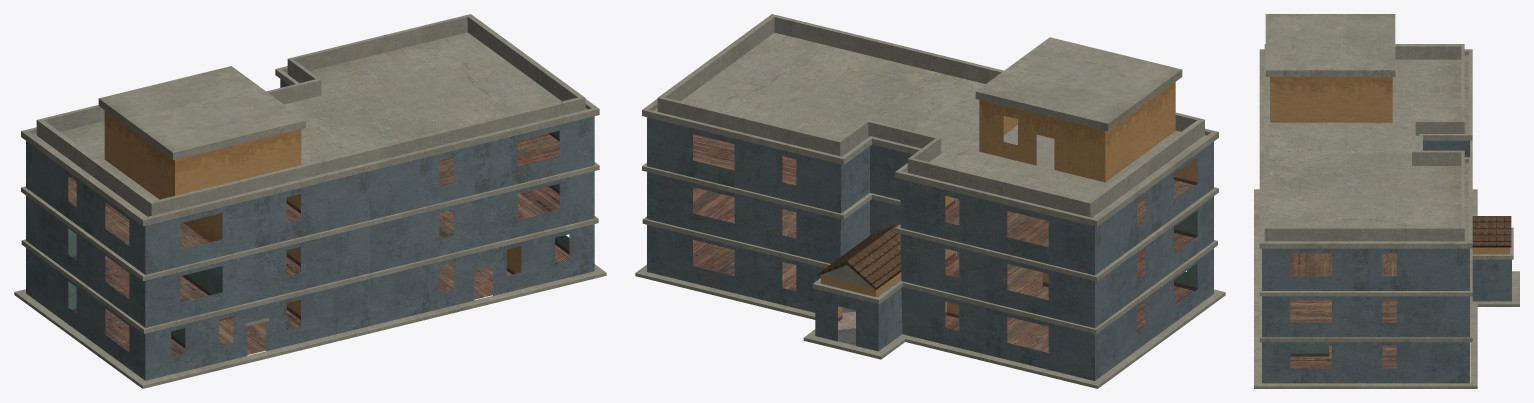
File: BuildingLarge3c012048_lod2.glb
3 renders of one model, left to right at view 1: azimuth 30°, elevation 25°; view 2: azimuth 150°, elevation 25°; view 3: azimuth 270°, elevation 25°, orthographic. The views are drawn at different scales.
Visible parts, largest first — view 1: xiutz_large_3c_01_2_lod2; view 2: xiutz_large_3c_01_2_lod2; view 3: xiutz_large_3c_01_2_lod2.
Part boxes in pixels (x1,y1,x2,y2): xiutz_large_3c_01_2_lod2: [14, 14, 606, 388]; xiutz_large_3c_01_2_lod2: [635, 14, 1225, 388]; xiutz_large_3c_01_2_lod2: [1254, 14, 1519, 388].
Bounding box in the file's own units: 45.07 × 20.63 × 25.67.
Materials: 1 (1 with a texture image).
